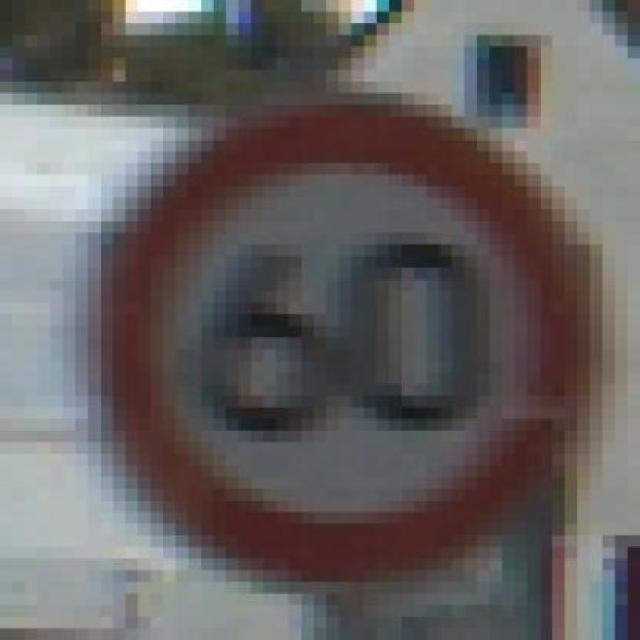forb_speed_over_60: (107, 98, 576, 587)
